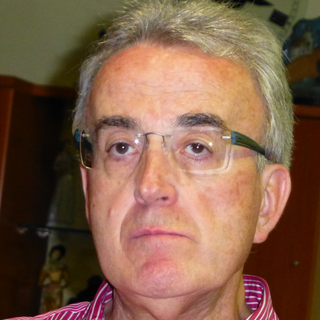eye: (172, 139, 216, 161), (100, 140, 143, 160)
